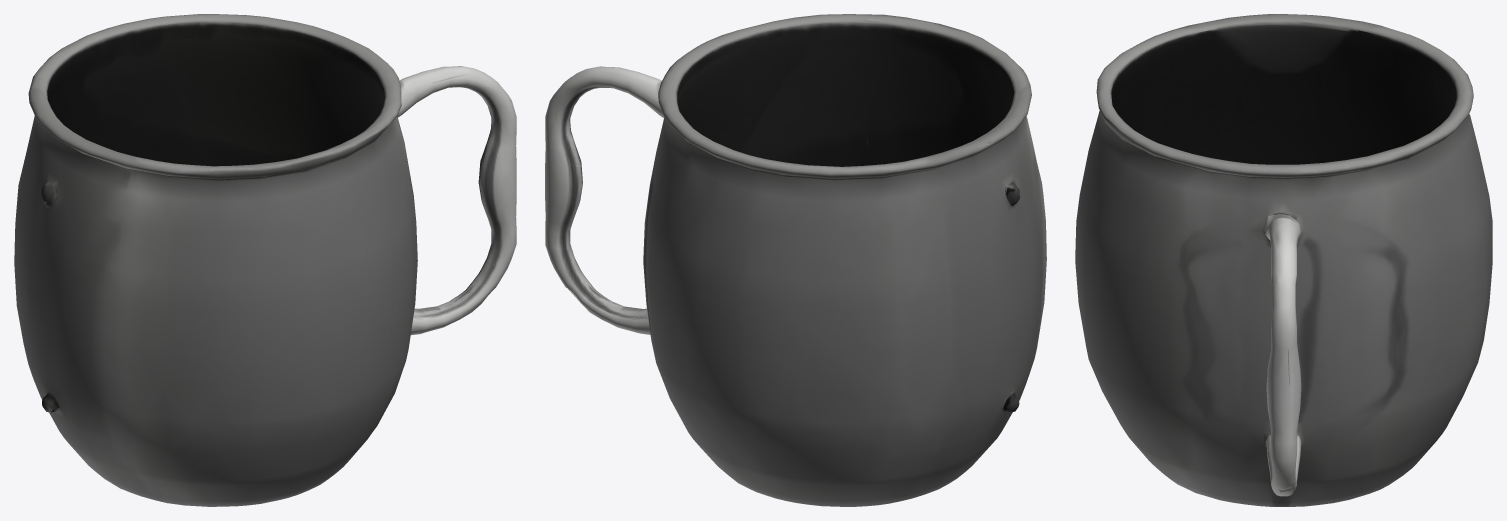
File: Black_Hammered_Mug_4.5InchesTall_0215212043_texture.glb
3 renders of one model, left to right at view 1: azimuth 30°, elevation 25°; view 2: azimuth 150°, elevation 25°; view 3: azimuth 270°, elevation 25°, orthographic.
Parts seen in each view (by area): view 1: Mesh_0; view 2: Mesh_0; view 3: Mesh_0.
Part boxes in pixels (x1=…): Mesh_0: x1=14, y1=14, x2=516, y2=506; Mesh_0: x1=545, y1=14, x2=1046, y2=506; Mesh_0: x1=1075, y1=14, x2=1492, y2=506.
Bounding box in the file's own units: 0.1552 × 0.1143 × 0.1185.
Materials: 1 (1 with a texture image).
